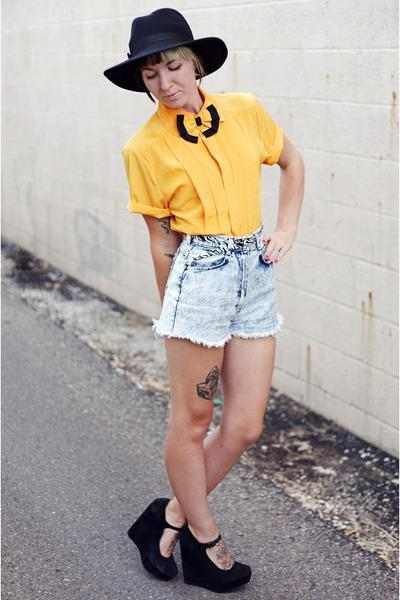Shorts: (149, 224, 288, 343)
short sleeve shirt: (119, 85, 286, 242)
